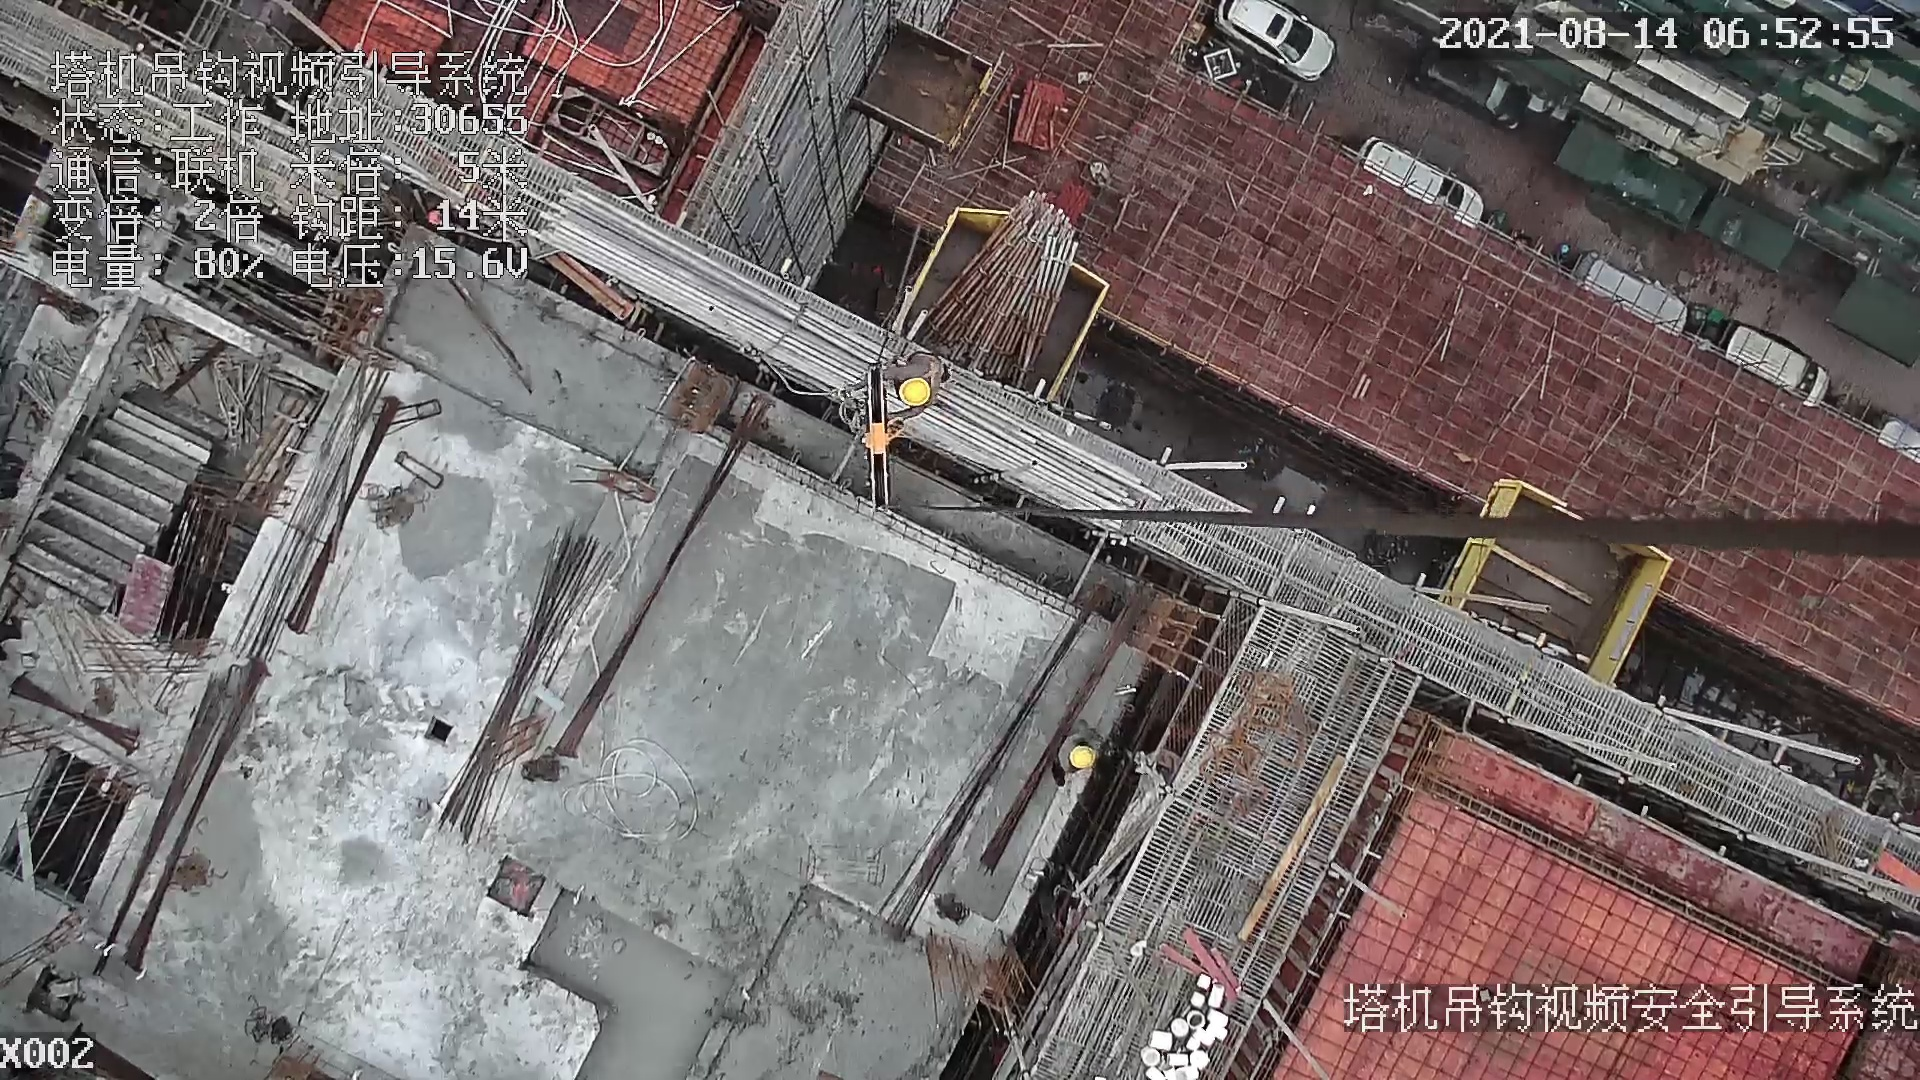helmet: (900, 376, 931, 407), (1069, 746, 1094, 770)
hook: (849, 365, 894, 518)
person: (885, 350, 944, 421), (1055, 721, 1106, 789)
rebar: (527, 184, 1146, 527), (439, 529, 615, 848)
scaffold: (908, 187, 1079, 392)
